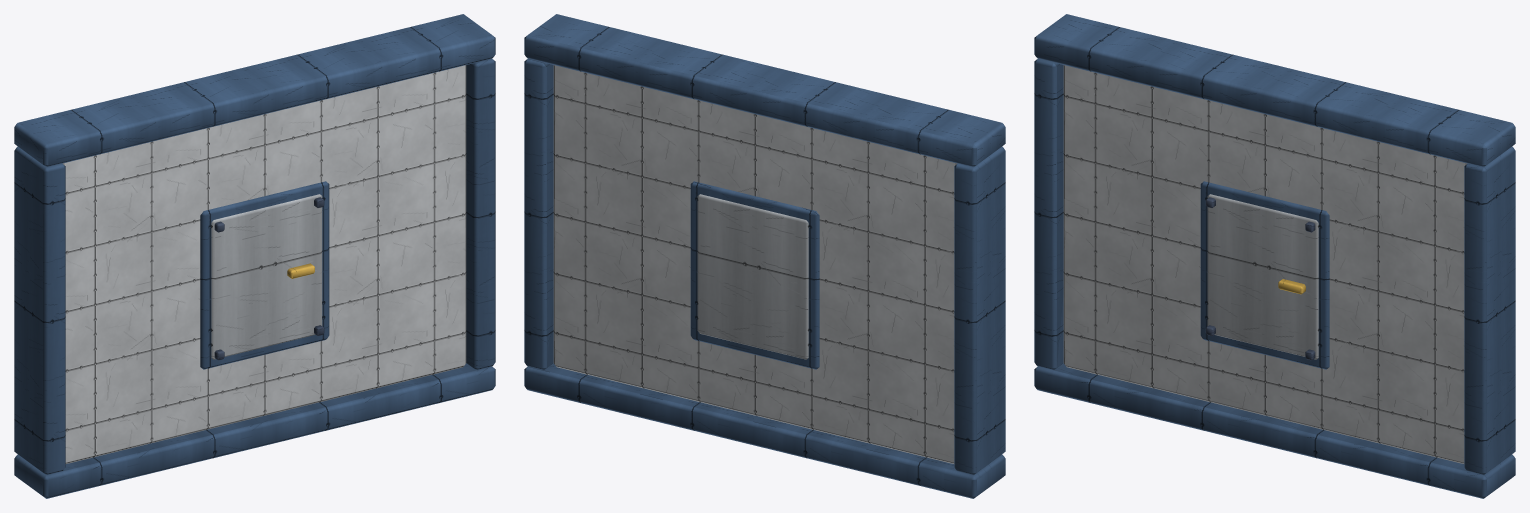
File: service_access_panel.glb
3 renders of one model, left to right at view 1: azimuth 30°, elevation 25°; view 2: azimuth 150°, elevation 25°; view 3: azimuth 330°, elevation 25°, orthographic.
Visible parts, largest first — view 1: service_access_panel_hull_offwhite, service_access_panel_navy_frame, service_access_panel_titanium; view 2: service_access_panel_hull_offwhite, service_access_panel_navy_frame, service_access_panel_titanium; view 3: service_access_panel_hull_offwhite, service_access_panel_navy_frame, service_access_panel_titanium.
Part boxes in pixels (x1,y1,x2,y2): service_access_panel_hull_offwhite: [62, 65, 466, 463]; service_access_panel_navy_frame: [14, 14, 495, 498]; service_access_panel_titanium: [211, 194, 322, 359]; service_access_panel_hull_offwhite: [553, 65, 957, 463]; service_access_panel_navy_frame: [524, 14, 1005, 498]; service_access_panel_titanium: [697, 194, 808, 359]; service_access_panel_hull_offwhite: [1063, 65, 1467, 463]; service_access_panel_navy_frame: [1034, 14, 1515, 498]; service_access_panel_titanium: [1207, 194, 1318, 359].
Size of the model in its own units: 4 by 3 by 0.51.
5 materials, 5 textured.
